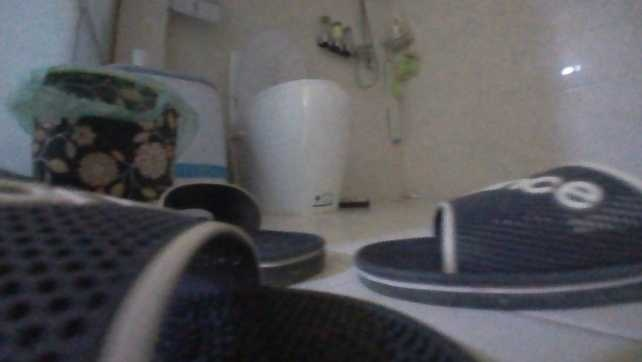slipper: (350, 161, 641, 308)
toilet: (222, 25, 353, 214)
